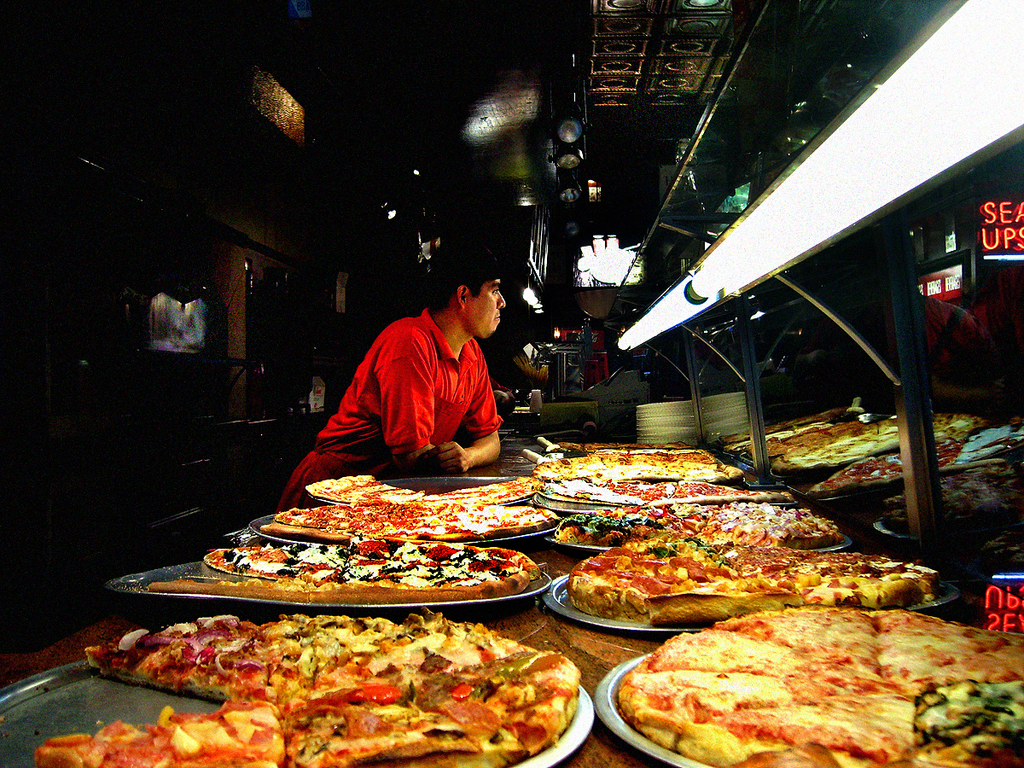Pizza: (31, 608, 585, 767), (606, 606, 1002, 766), (566, 540, 934, 619), (146, 533, 541, 601), (276, 502, 552, 540), (557, 499, 843, 535), (542, 474, 790, 505), (300, 473, 535, 502), (543, 450, 743, 481)
